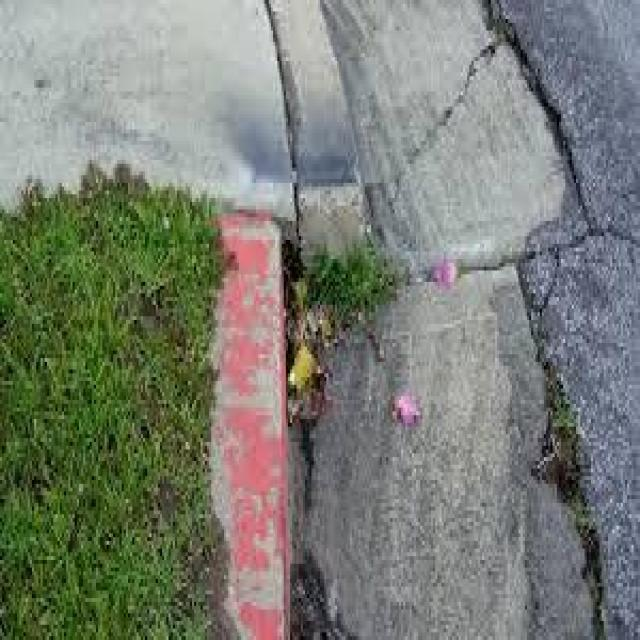curb: (213, 209, 293, 633)
